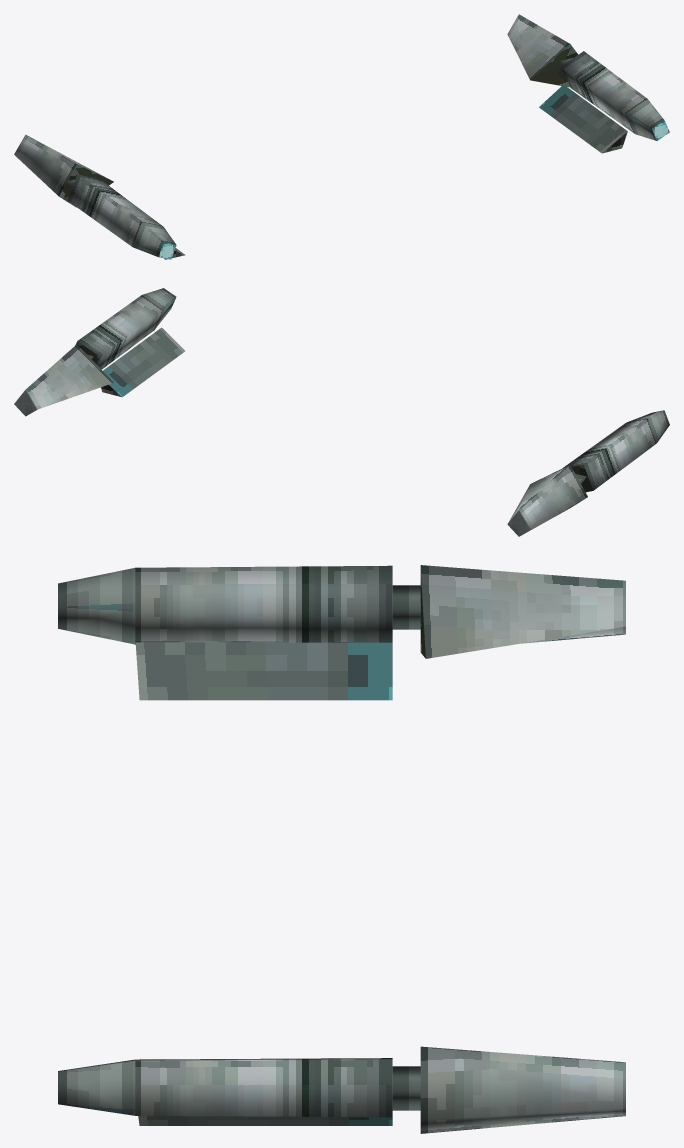
Rendered from black_sun_fighter_heavy_weapon1_s02_l2.fbx.
3 views of the same model, one above another, from view 1: azimuth 30°, elevation 25°; view 2: azimuth 150°, elevation 25°; view 3: azimuth 270°, elevation 25° (orthographic). The views are drawn at different scales.
Parts seen in each view (by area): view 1: mesh_node; view 2: mesh_node; view 3: mesh_node.
Boxes of the visible parts, <box> form: mesh_node: <box>14,14,669,259</box>; mesh_node: <box>14,288,669,536</box>; mesh_node: <box>58,565,625,1133</box>.
Bounding box in the file's own units: 3.24 × 0.2859 × 1.5.
Materials: 1 (1 with a texture image).
